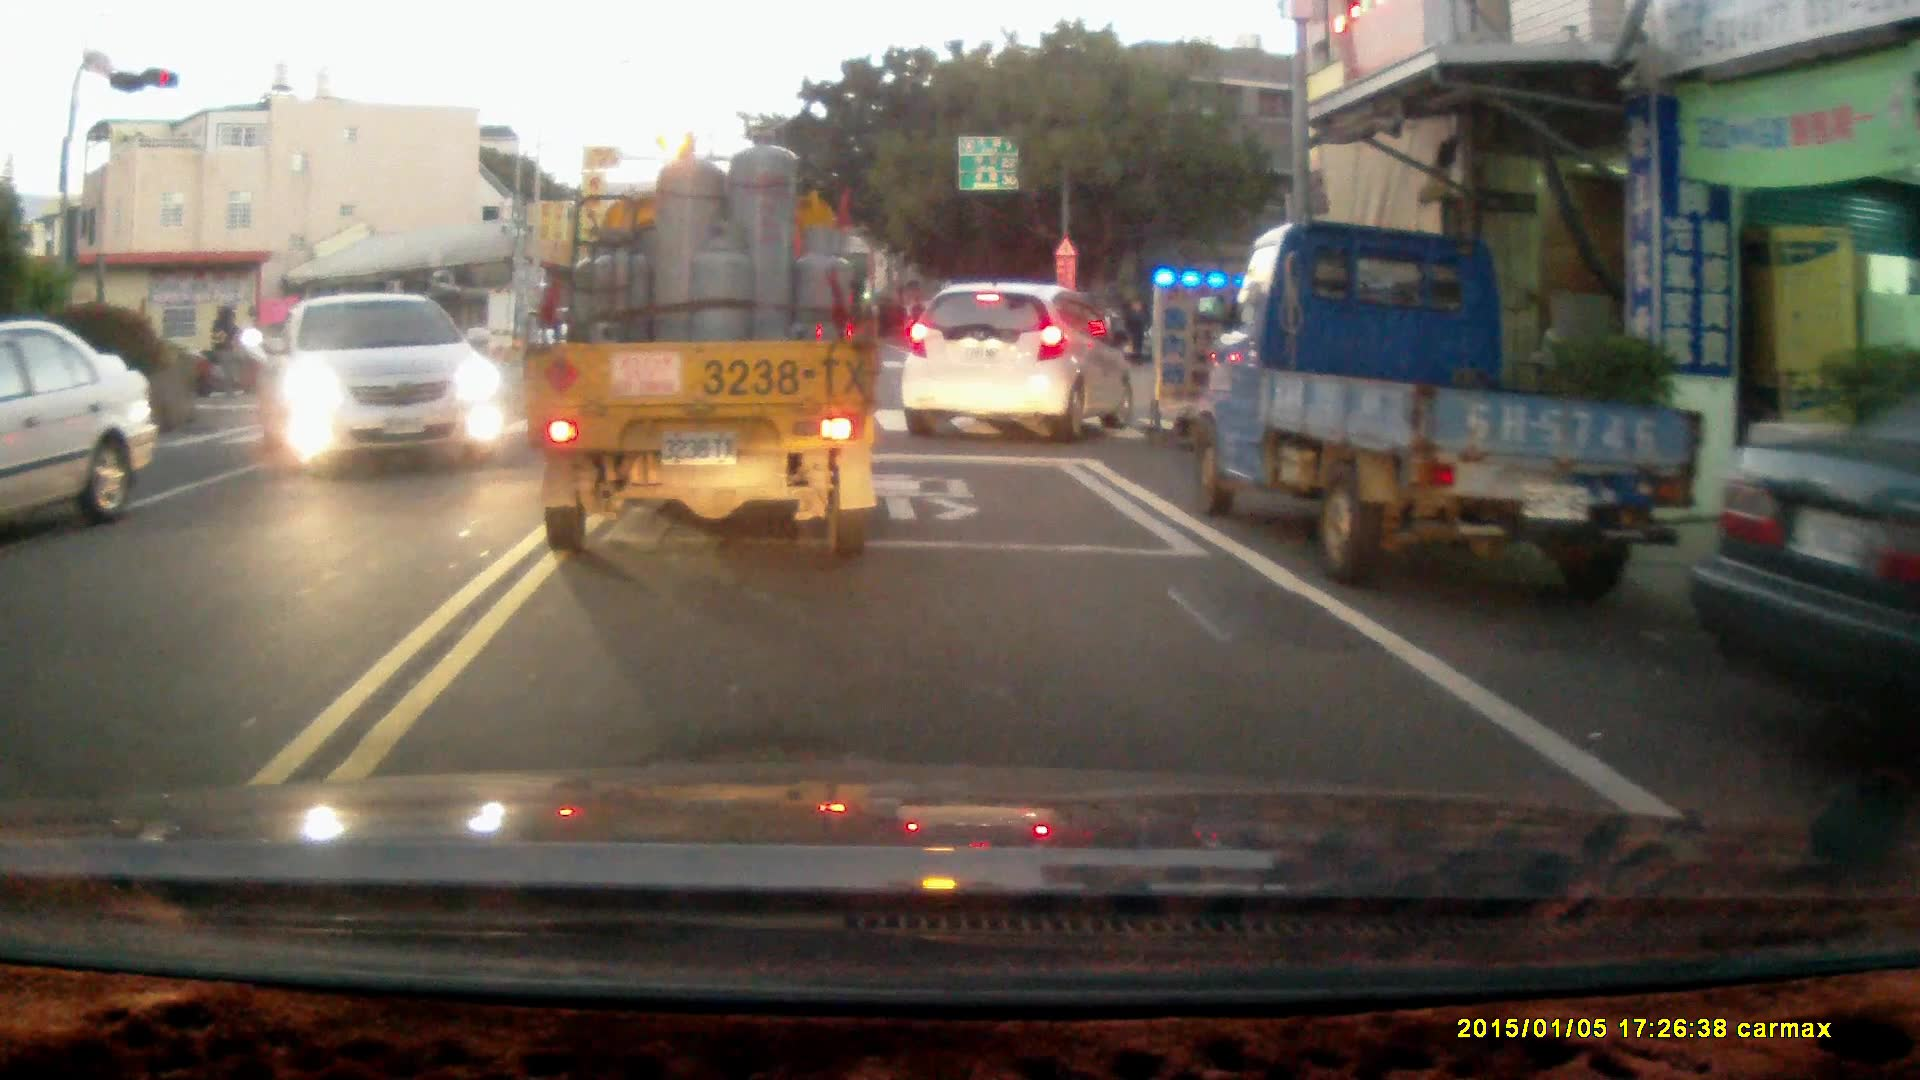rider: (188, 304, 272, 399)
vehicle: (1199, 217, 1690, 593), (531, 119, 889, 554), (256, 295, 504, 472), (901, 282, 1142, 439), (1, 322, 151, 543)
